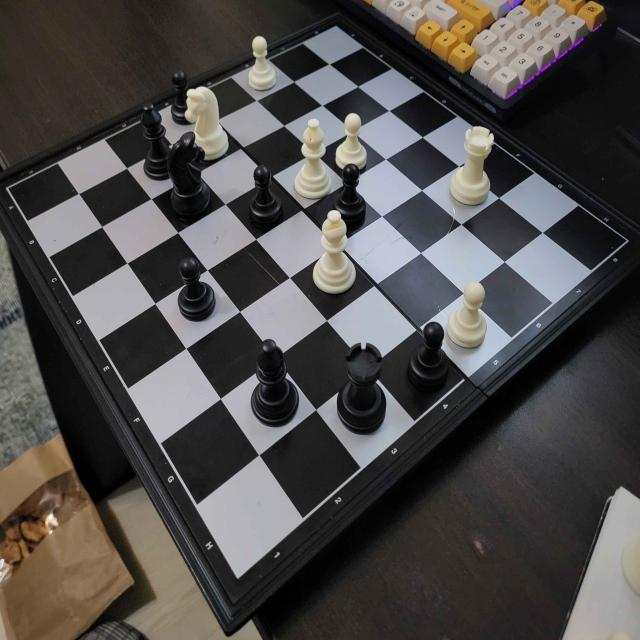black-bishop: (248, 336, 301, 432), (139, 100, 170, 185)
black-knight: (170, 130, 213, 220)
black-pawn: (404, 318, 454, 391), (173, 254, 219, 326), (248, 162, 284, 231), (332, 160, 368, 224), (169, 68, 191, 122)
black-rook: (332, 336, 389, 444)
chess-board: (8, 13, 640, 604)
white-bishop: (311, 208, 359, 299), (291, 118, 334, 201)
white-knight: (183, 83, 230, 164)
white-pawn: (446, 280, 488, 352), (334, 110, 368, 173), (247, 33, 280, 95)
white-rook: (444, 124, 496, 208)
